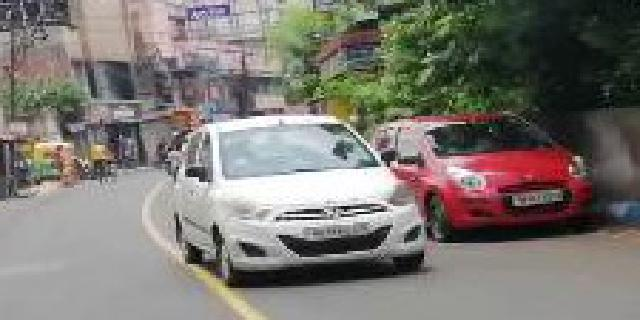Car: (166, 103, 431, 290), (366, 116, 600, 245)
